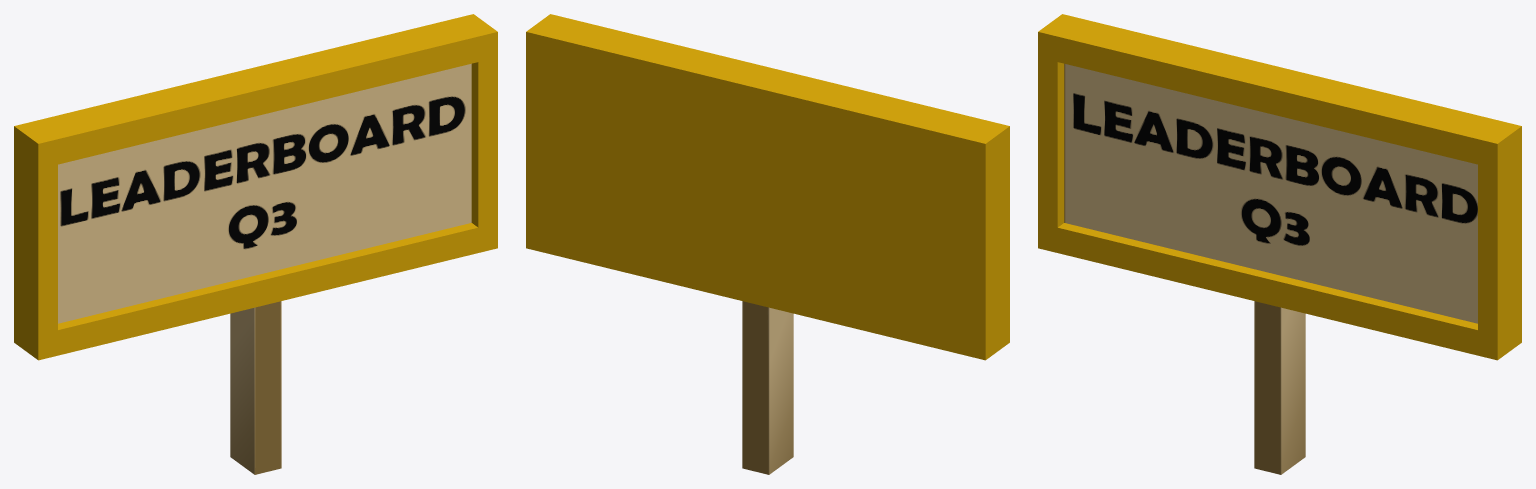
File: signPost_lQ3.fbx
3 views of the same model, side by side, from view 1: azimuth 30°, elevation 25°; view 2: azimuth 150°, elevation 25°; view 3: azimuth 330°, elevation 25° (orthographic).
Visible parts, largest first — view 1: pCube3; view 2: pCube3; view 3: pCube3.
Boxes of the visible parts, box(x1,y1,x2,y2) form: pCube3: box(14, 14, 497, 474); pCube3: box(526, 14, 1009, 474); pCube3: box(1038, 14, 1521, 474).
Size of the model in its own units: 6.34 by 5.06 by 0.5821.
2 materials, 1 textured.
